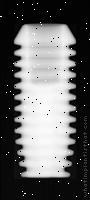Bicon: (14, 24, 76, 179)
